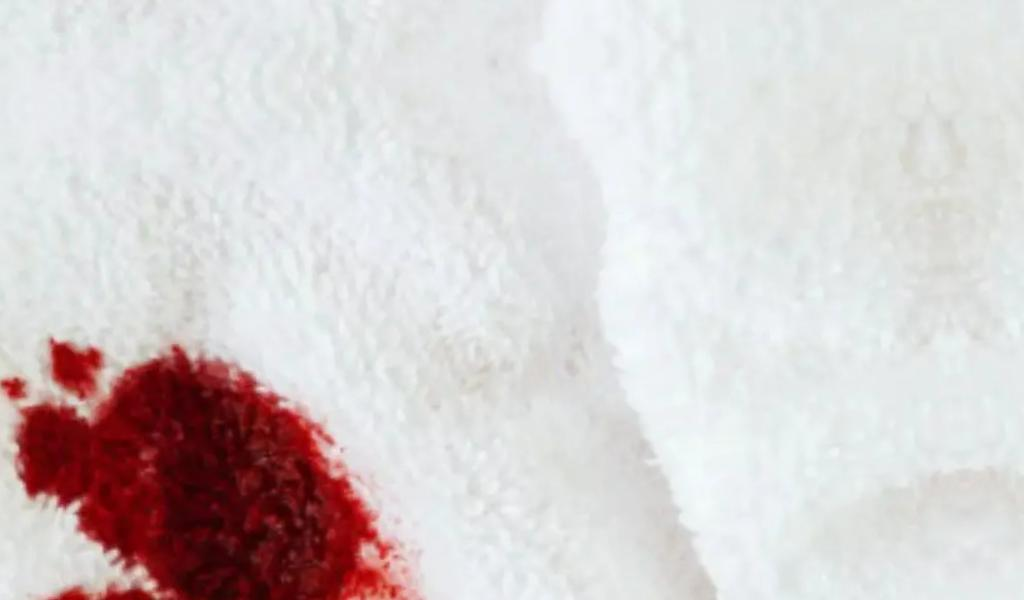stain: (0, 331, 425, 600)
